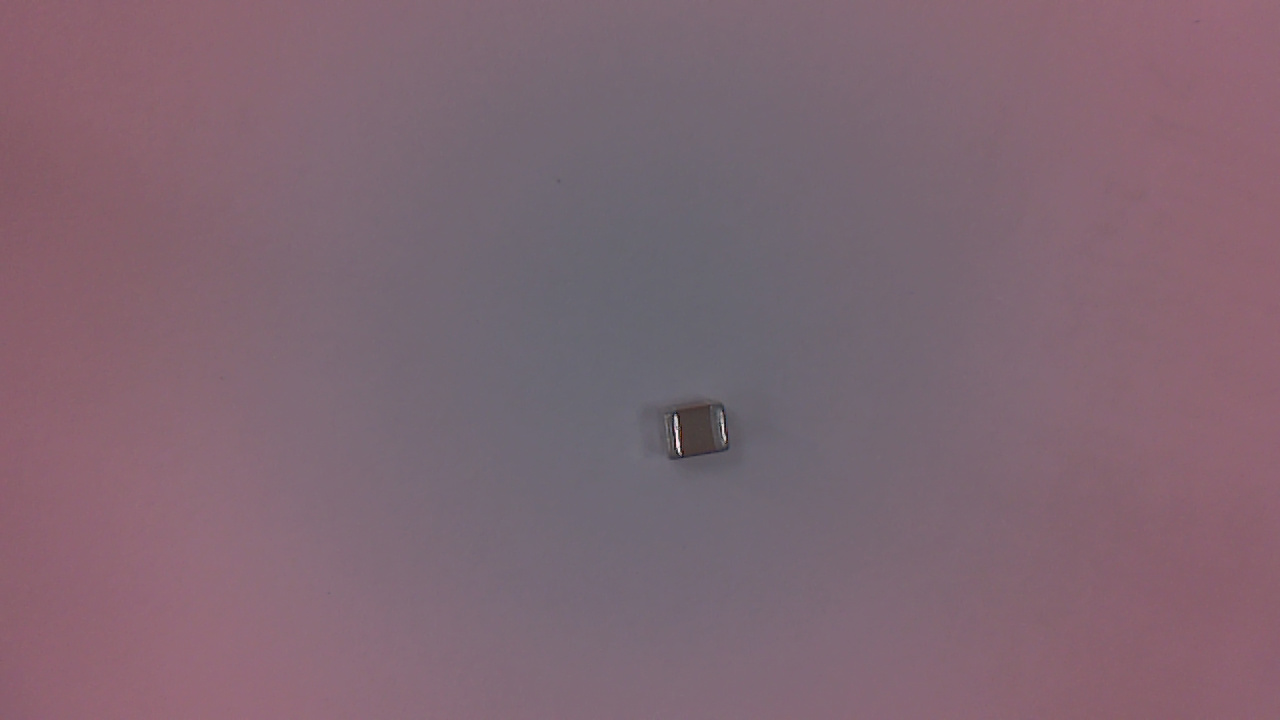Condensator: (666, 405, 734, 467)
